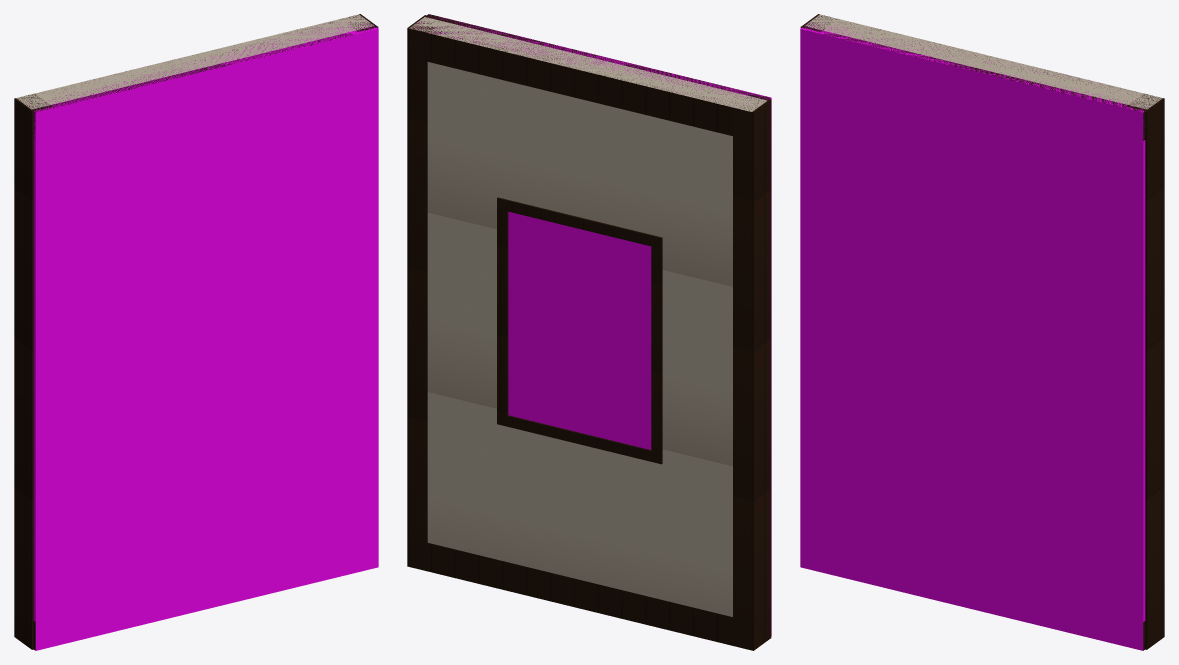
File: SM_STREET_WallA.glb
3 views of the same model, side by side, from view 1: azimuth 30°, elevation 25°; view 2: azimuth 150°, elevation 25°; view 3: azimuth 330°, elevation 25° (orthographic).
Visible parts, largest first — view 1: COL_SM_STREET_WallA, MESH_Wall_Wood, MESH_Wall_Plaster; view 2: MESH_Wall_Plaster, MESH_Wall_Wood, COL_SM_STREET_WallA; view 3: COL_SM_STREET_WallA, MESH_Wall_Wood, MESH_Wall_Plaster.
Part boxes in pixels (left/top/right/bottom): COL_SM_STREET_WallA: left=31, top=19, right=378, bottom=650; MESH_Wall_Wood: left=14, top=14, right=378, bottom=650; MESH_Wall_Plaster: left=16, top=14, right=373, bottom=109; MESH_Wall_Plaster: left=409, top=17, right=766, bottom=616; MESH_Wall_Wood: left=407, top=14, right=771, bottom=650; COL_SM_STREET_WallA: left=410, top=15, right=771, bottom=635; COL_SM_STREET_WallA: left=800, top=23, right=1145, bottom=650; MESH_Wall_Wood: left=800, top=14, right=1164, bottom=650; MESH_Wall_Plaster: left=804, top=14, right=1162, bottom=109.
Size of the model in its own units: 2.02 by 3 by 0.2099.
Materials: 3 (2 with a texture image).
